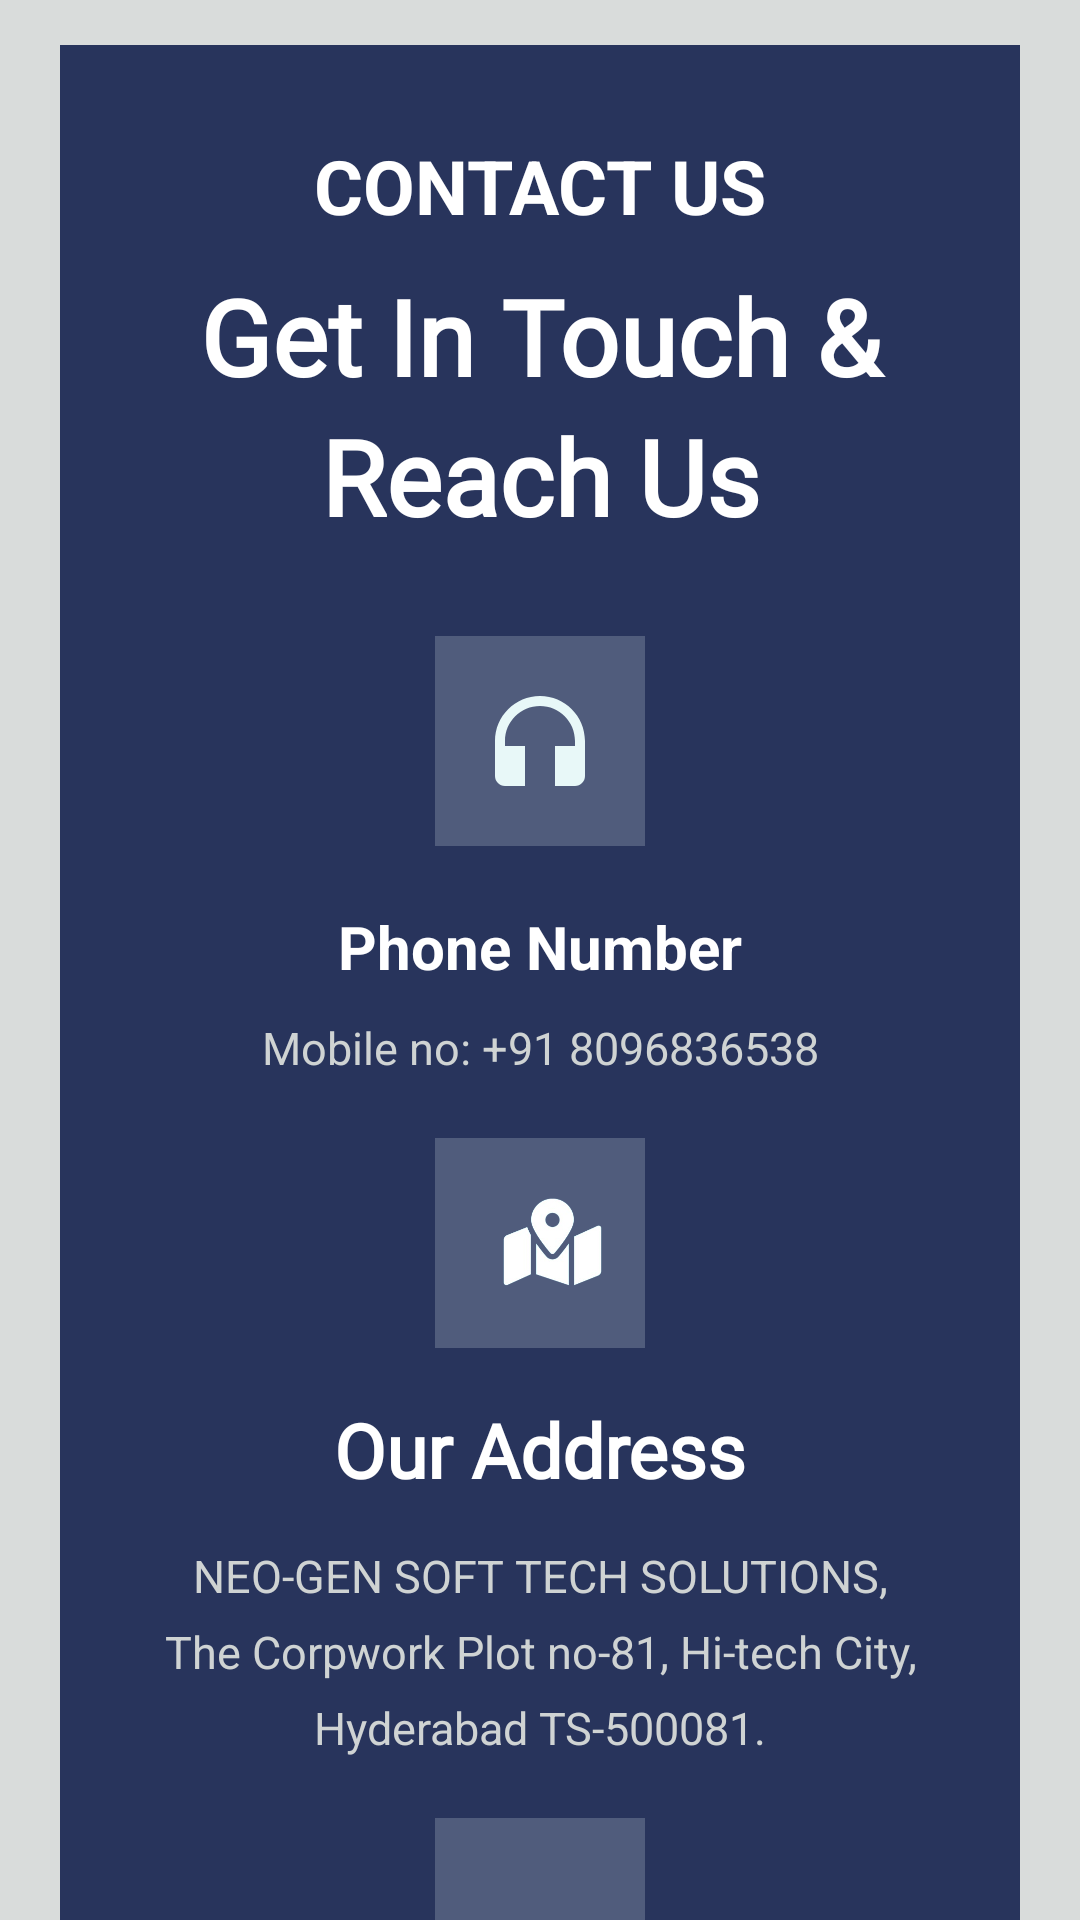

Icons on this 1080px×1920px Android screen, each with its box as Rect(x1, y1, x2, y2):
headphones: Rect(495, 696, 585, 786)
